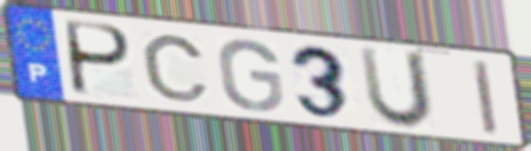3: (288, 41, 359, 123)
C: (138, 32, 213, 104)
G: (215, 37, 287, 114)
I: (470, 57, 501, 139)
P: (65, 18, 136, 100)
U: (355, 43, 436, 132)
